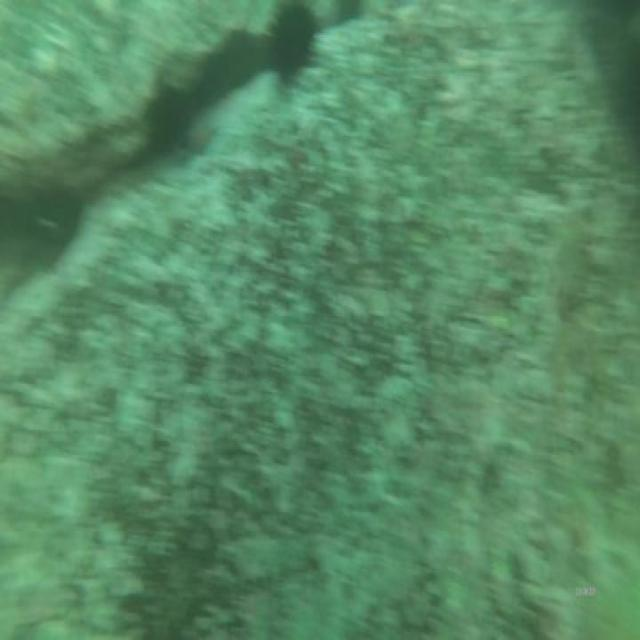echinus: (140, 78, 194, 164), (268, 3, 319, 85)
